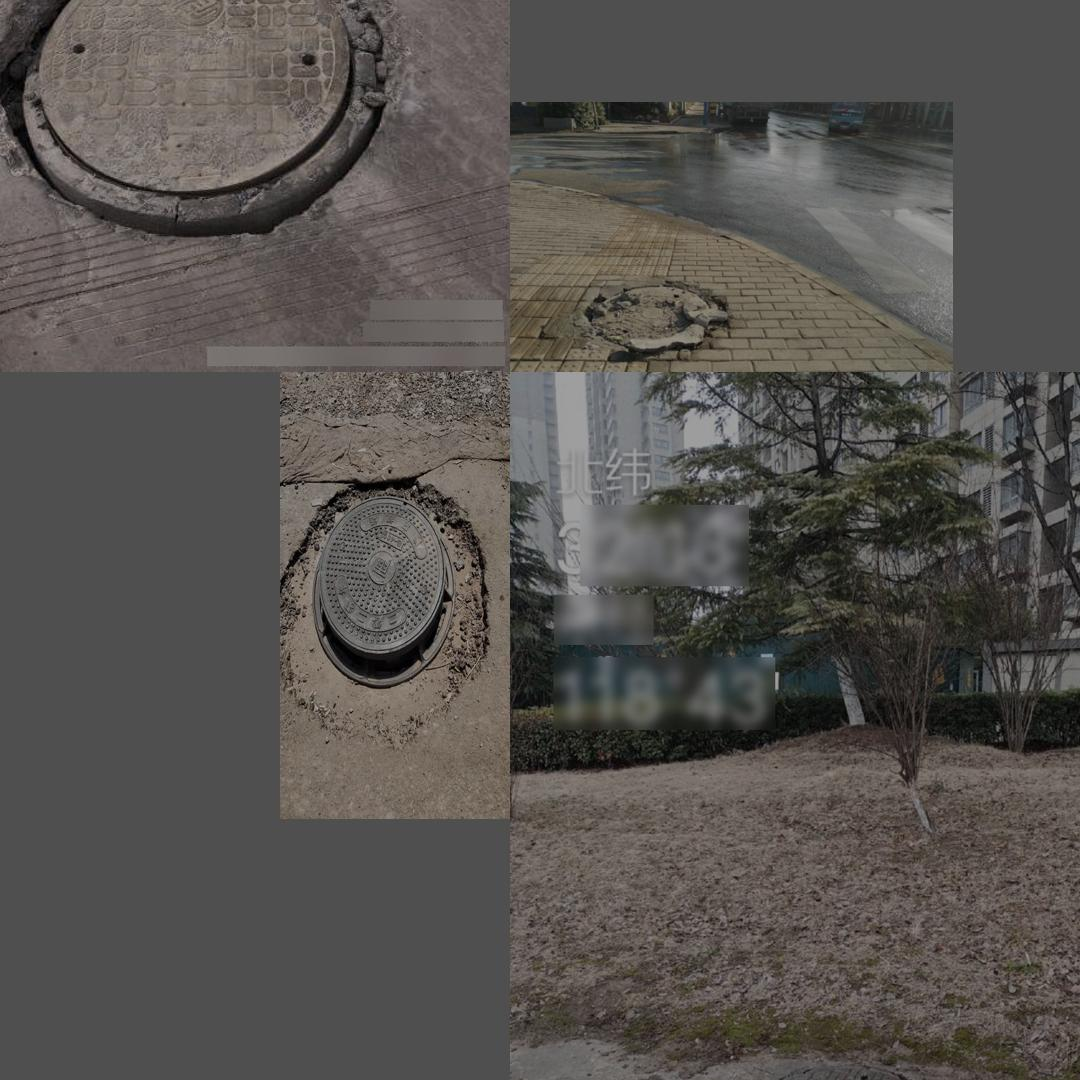circle: (0, 0, 396, 244), (284, 480, 487, 742), (567, 272, 729, 355), (735, 1058, 943, 1080)
